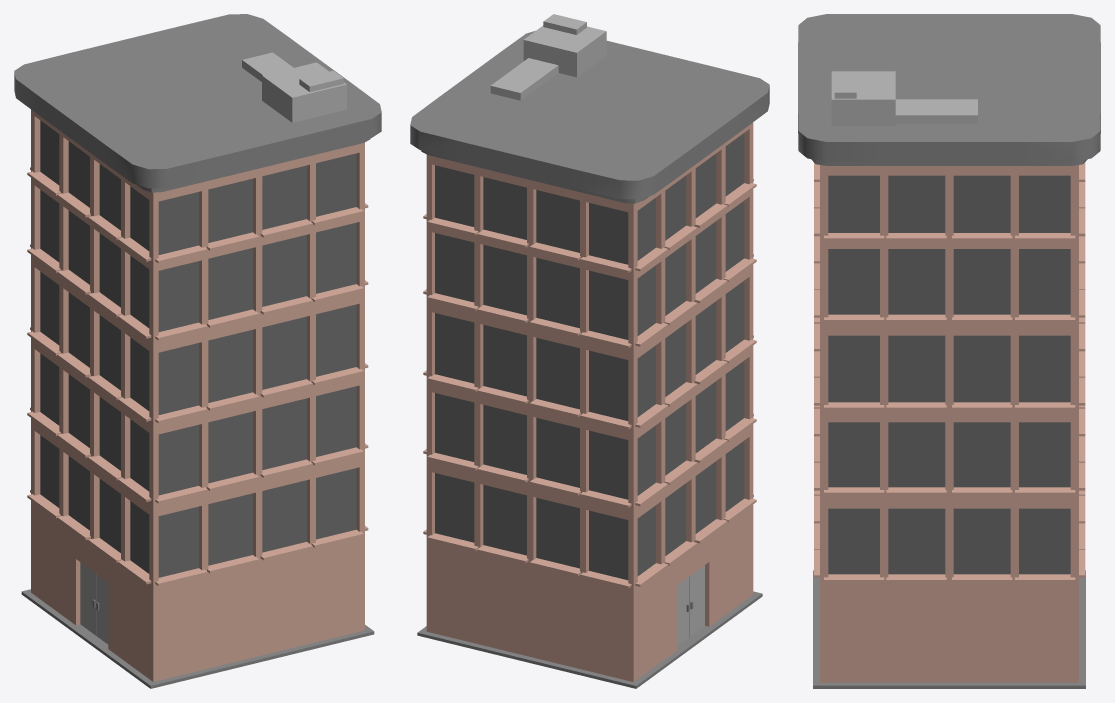
The picture shows the model from 3 angles, left to right: view 1: azimuth 30°, elevation 25°; view 2: azimuth 150°, elevation 25°; view 3: azimuth 270°, elevation 25°; orthographic projection. The views are drawn at different scales.
Parts seen in each view (by area): view 1: pCube1, pCube31, pCube28, pCube5, pCube4, pCube6; view 2: pCube1, pCube31, pCube28, pCube5, pCube4, pCube6; view 3: pCube1, pCube27, pCube31, pCube5, pCube4, pCube6.
Boxes of the visible parts, box(x1,y1,x2,y2) form: pCube1: box(14, 14, 381, 688); pCube31: box(30, 167, 363, 585); pCube28: box(27, 171, 160, 584); pCube5: box(262, 62, 346, 122); pCube4: box(242, 52, 293, 81); pCube6: box(299, 70, 343, 91); pCube1: box(410, 30, 769, 688); pCube31: box(427, 179, 753, 588); pCube28: box(626, 183, 756, 586); pCube5: box(523, 25, 606, 77); pCube4: box(490, 58, 558, 100); pCube6: box(543, 14, 586, 34); pCube1: box(798, 14, 1100, 688); pCube27: box(824, 233, 1075, 582); pCube31: box(814, 162, 1085, 577); pCube5: box(831, 71, 895, 126); pCube4: box(895, 99, 977, 123); pCube6: box(834, 75, 856, 98).
Size of the model in its own units: 0.3056 by 0.6521 by 0.3056.
